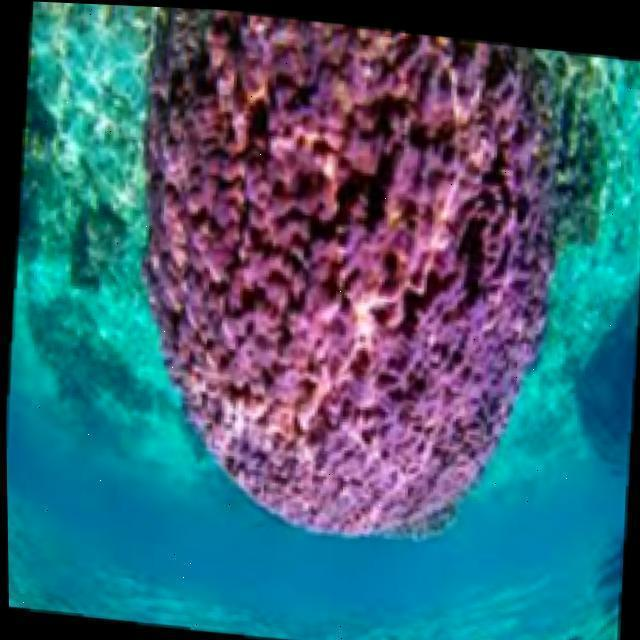Healthy Coral: (148, 14, 549, 534)
